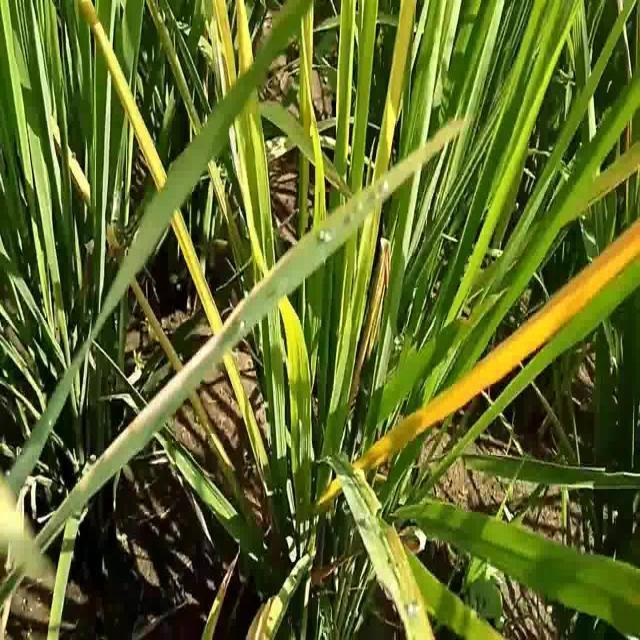Rice Tungro: (378, 213, 640, 472), (79, 3, 241, 409), (320, 452, 436, 640), (207, 3, 277, 253), (362, 2, 420, 259), (294, 3, 328, 235)
